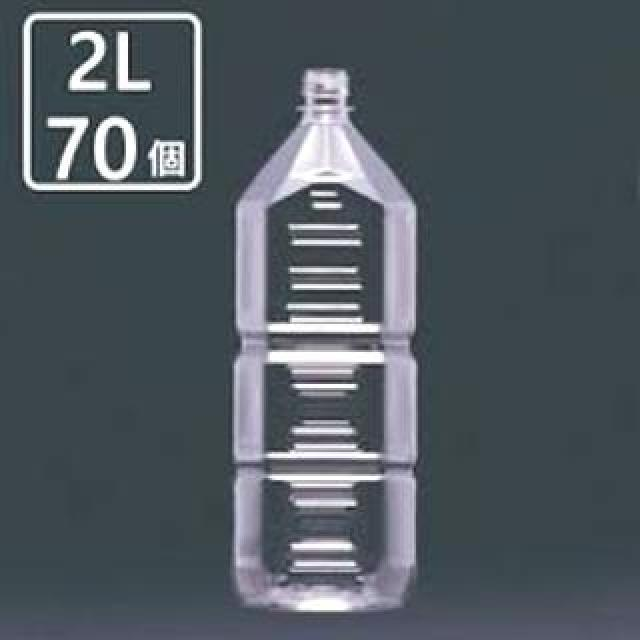Pet_Bottle: (234, 65, 432, 611)
